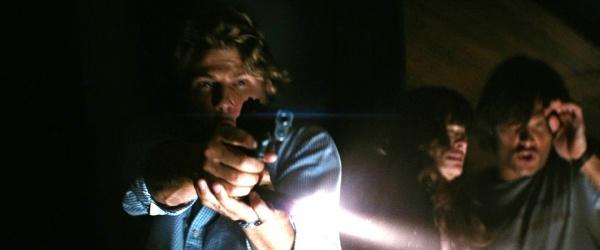Gun: (233, 99, 295, 159)
